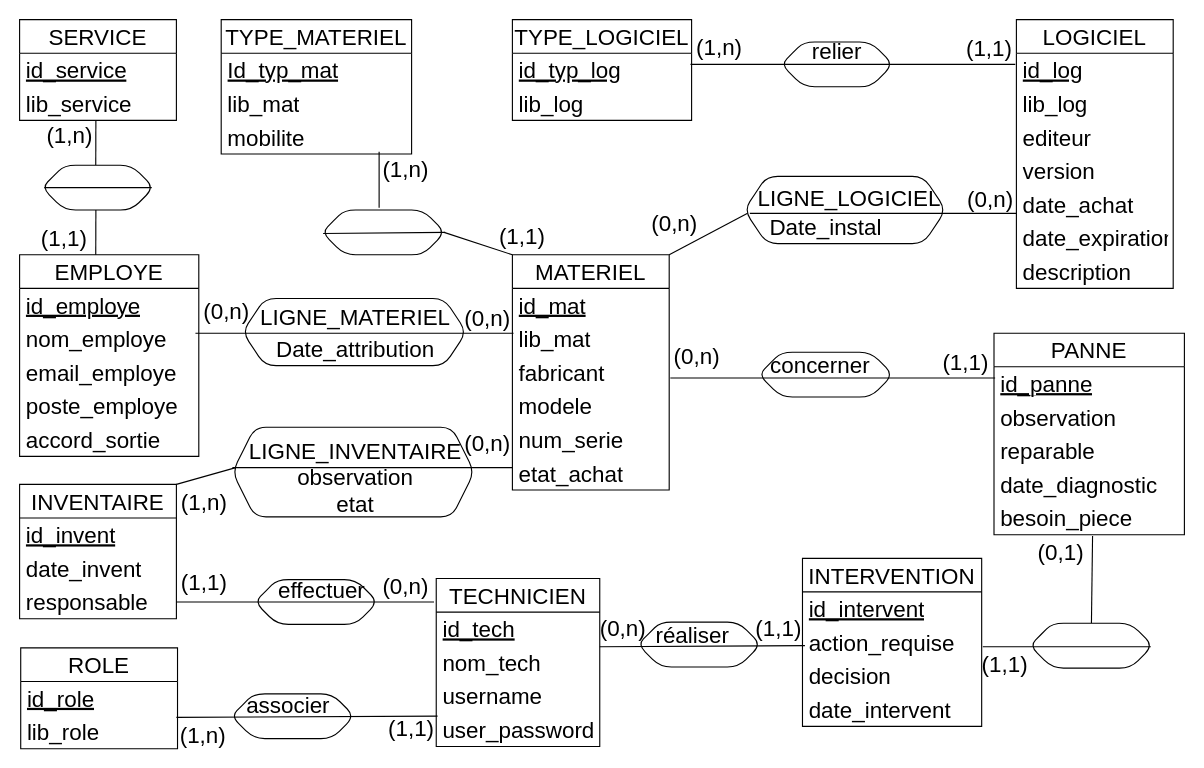
Image size: 1204x768. Some labels were removed from this diagram. Each missing label, with the centre of its shape:
"assigner" goes at pixel 383 232.
"coupler" goes at pixel 1091 645.
"lier" goes at pixel 97 187.
